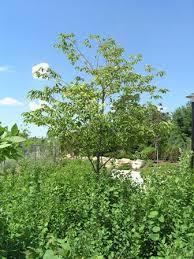tree: (21, 25, 173, 199)
